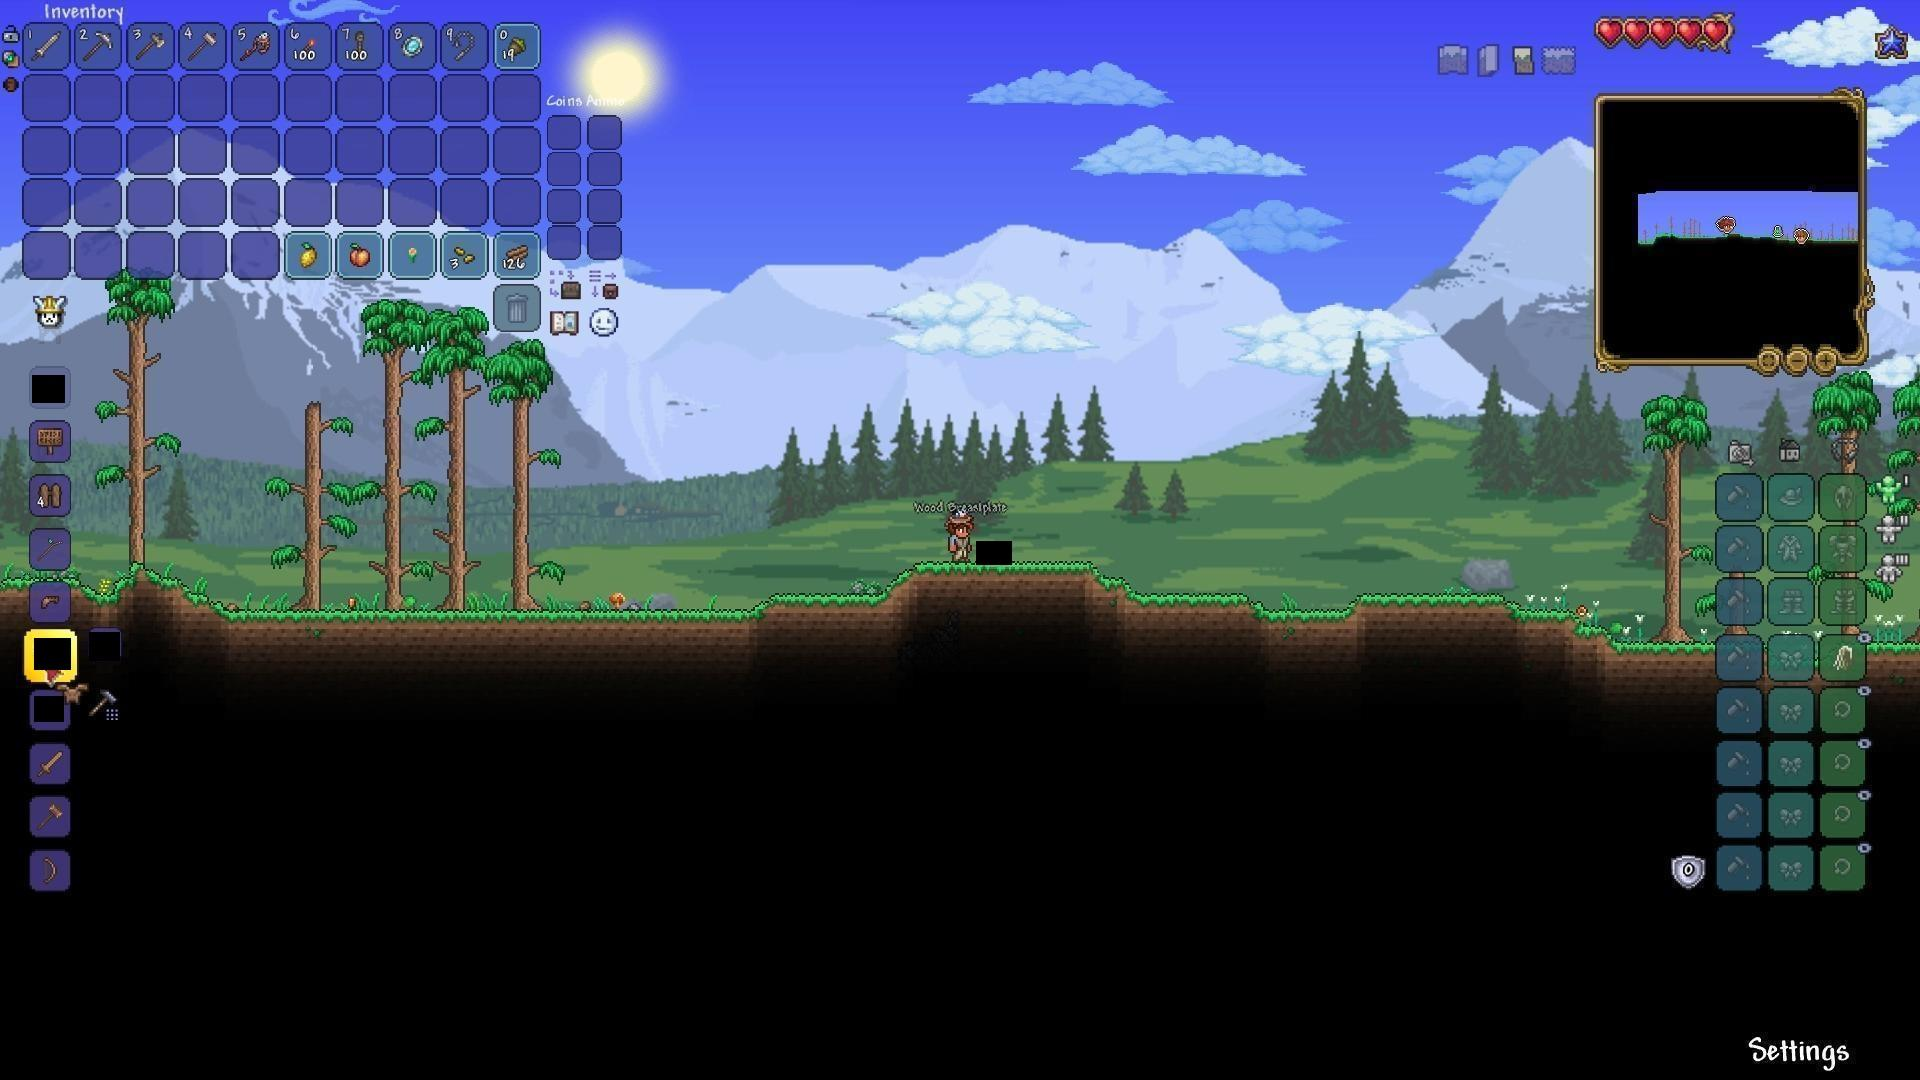helmet: (38, 592, 59, 613)
wood: (505, 240, 535, 269)
